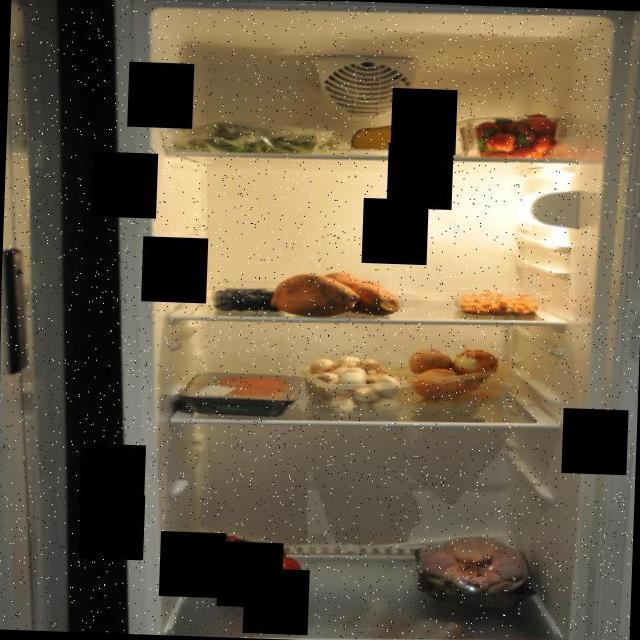Carne pollo: (410, 530, 542, 614)
Carne vacuno: (193, 366, 295, 414)
Cebolla: (407, 344, 496, 396)
Champiñones: (293, 348, 413, 419)
Gambas/Langostinos: (449, 288, 541, 322)
Queso: (348, 118, 411, 156)
Tomate: (202, 528, 306, 598)
